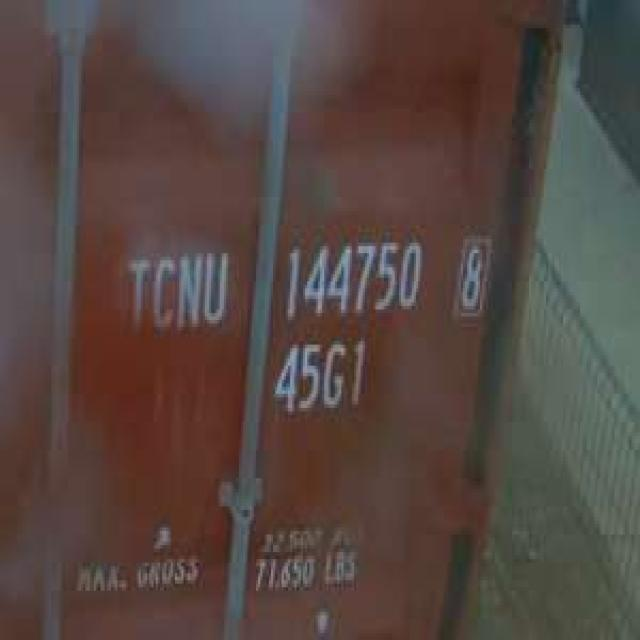dv: (449, 229, 493, 321)
owner: (121, 238, 236, 344)
serial: (280, 226, 425, 330)
size: (264, 334, 374, 425)
